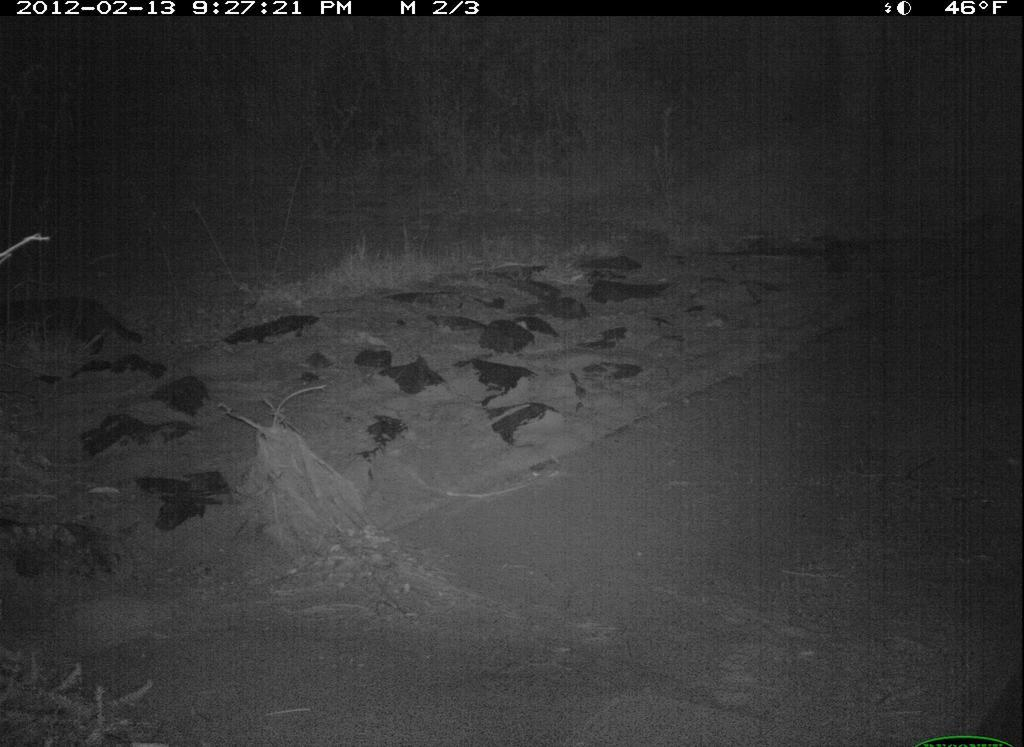cat: (4, 265, 167, 372)
